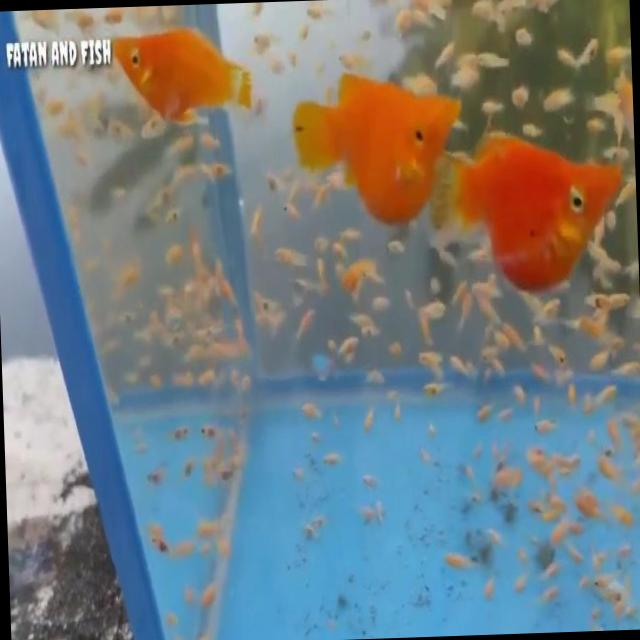PlatyFish: (424, 116, 629, 298), (287, 53, 468, 239), (108, 14, 256, 130)
